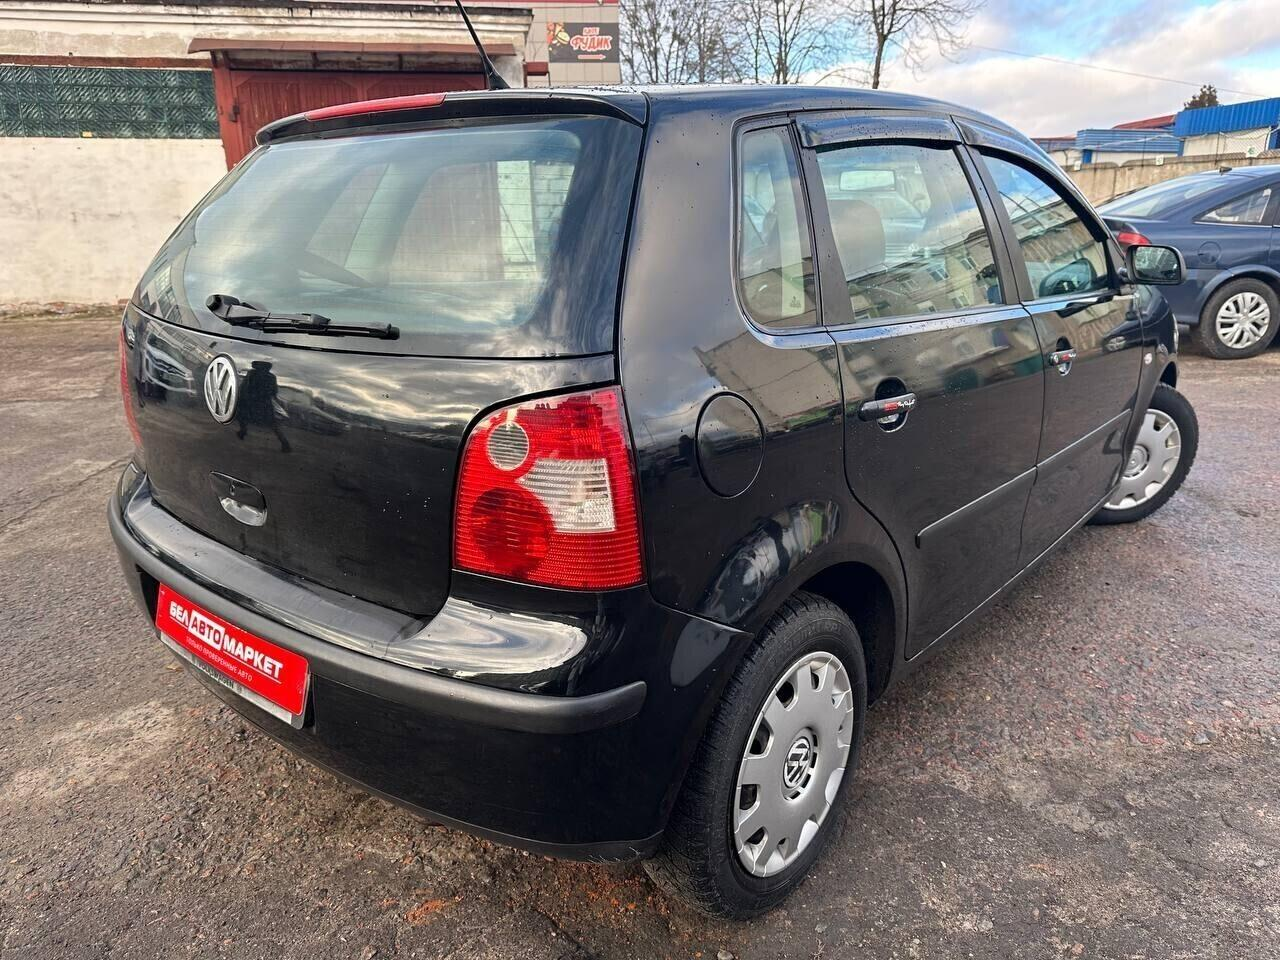Volswagen_Polo_2005_4790: (104, 80, 1201, 922)
